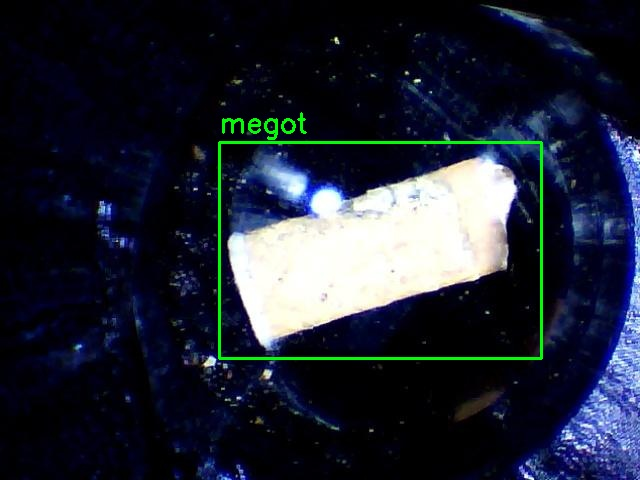megot: (219, 142, 541, 358)
